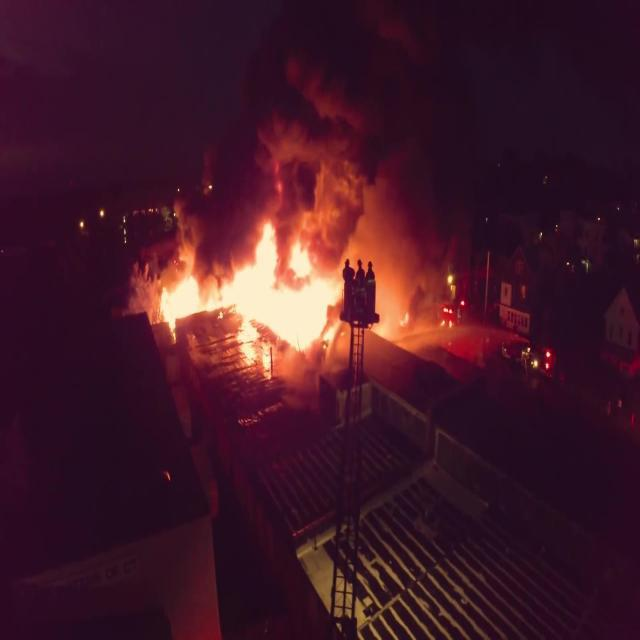Fire: (134, 160, 387, 394)
Smoke: (205, 0, 524, 156)
